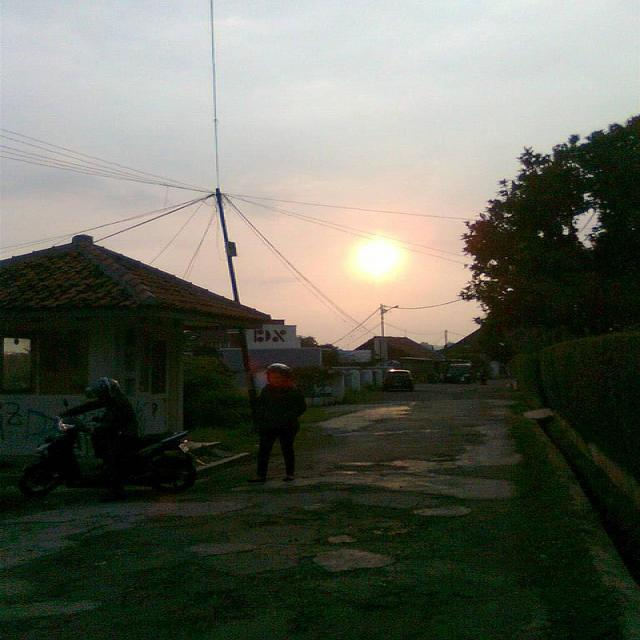Motorbike: (31, 372, 245, 544)
